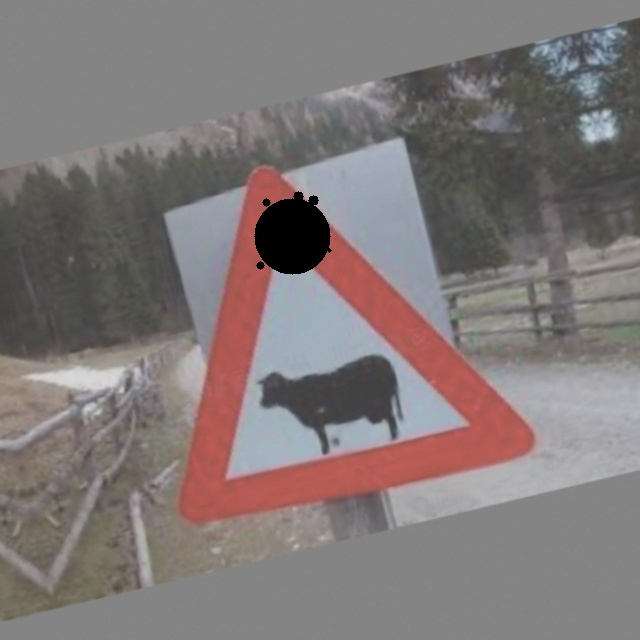Cattle: (115, 138, 527, 539)
